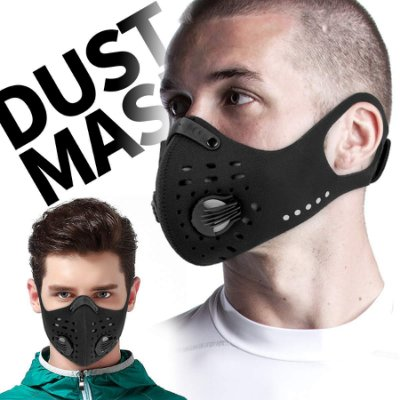Mask: (153, 15, 383, 271), (38, 245, 135, 365)
